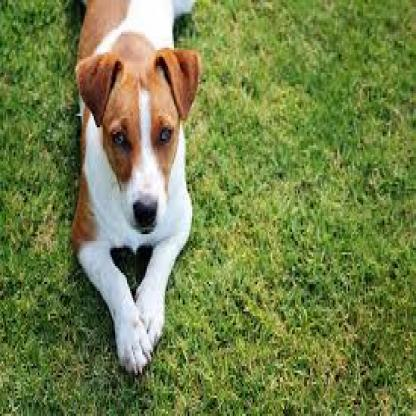Jack Russell: (23, 0, 229, 396)
